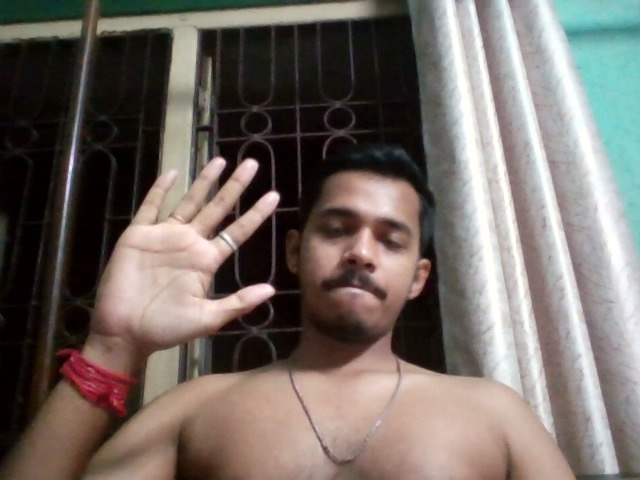Hello: (92, 142, 283, 349)
